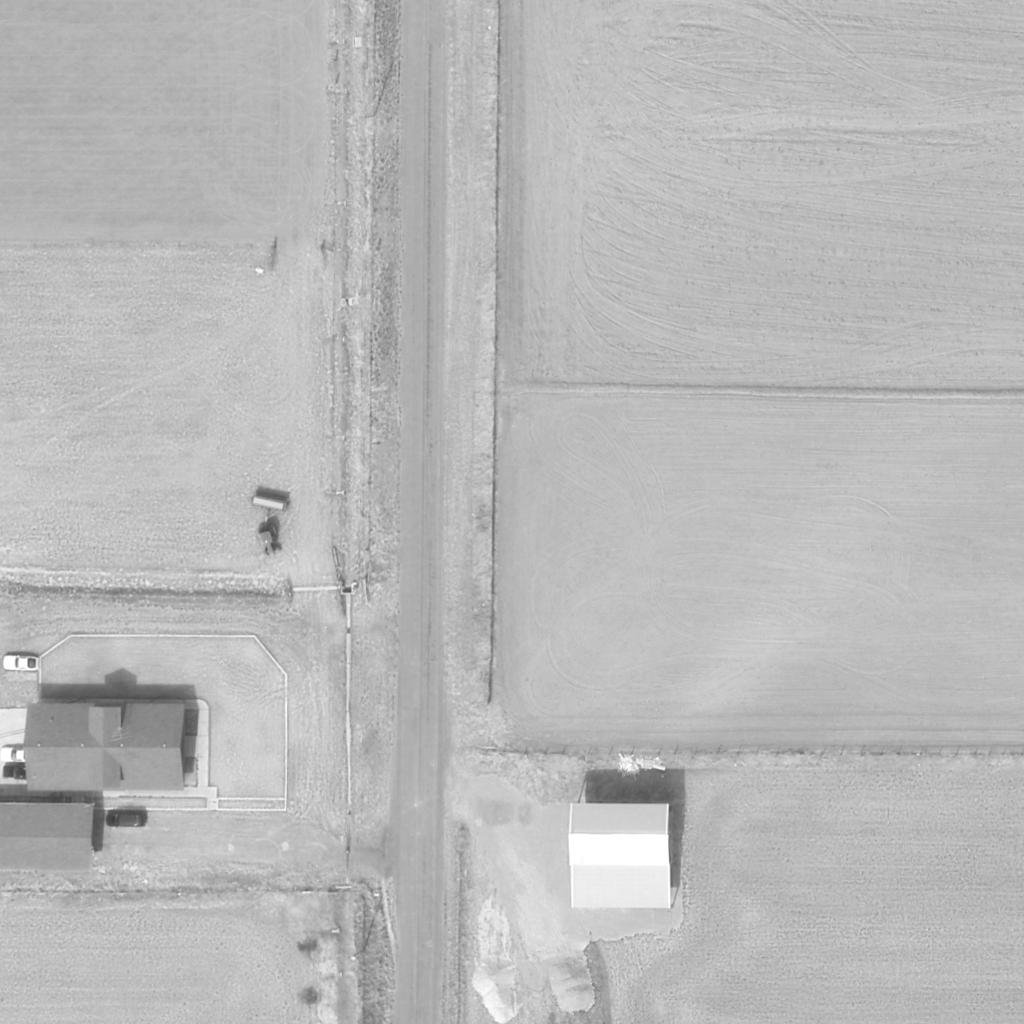vehicle: (253, 525, 283, 561), (1, 747, 47, 763), (106, 812, 146, 830), (3, 765, 39, 781), (3, 656, 39, 672)
